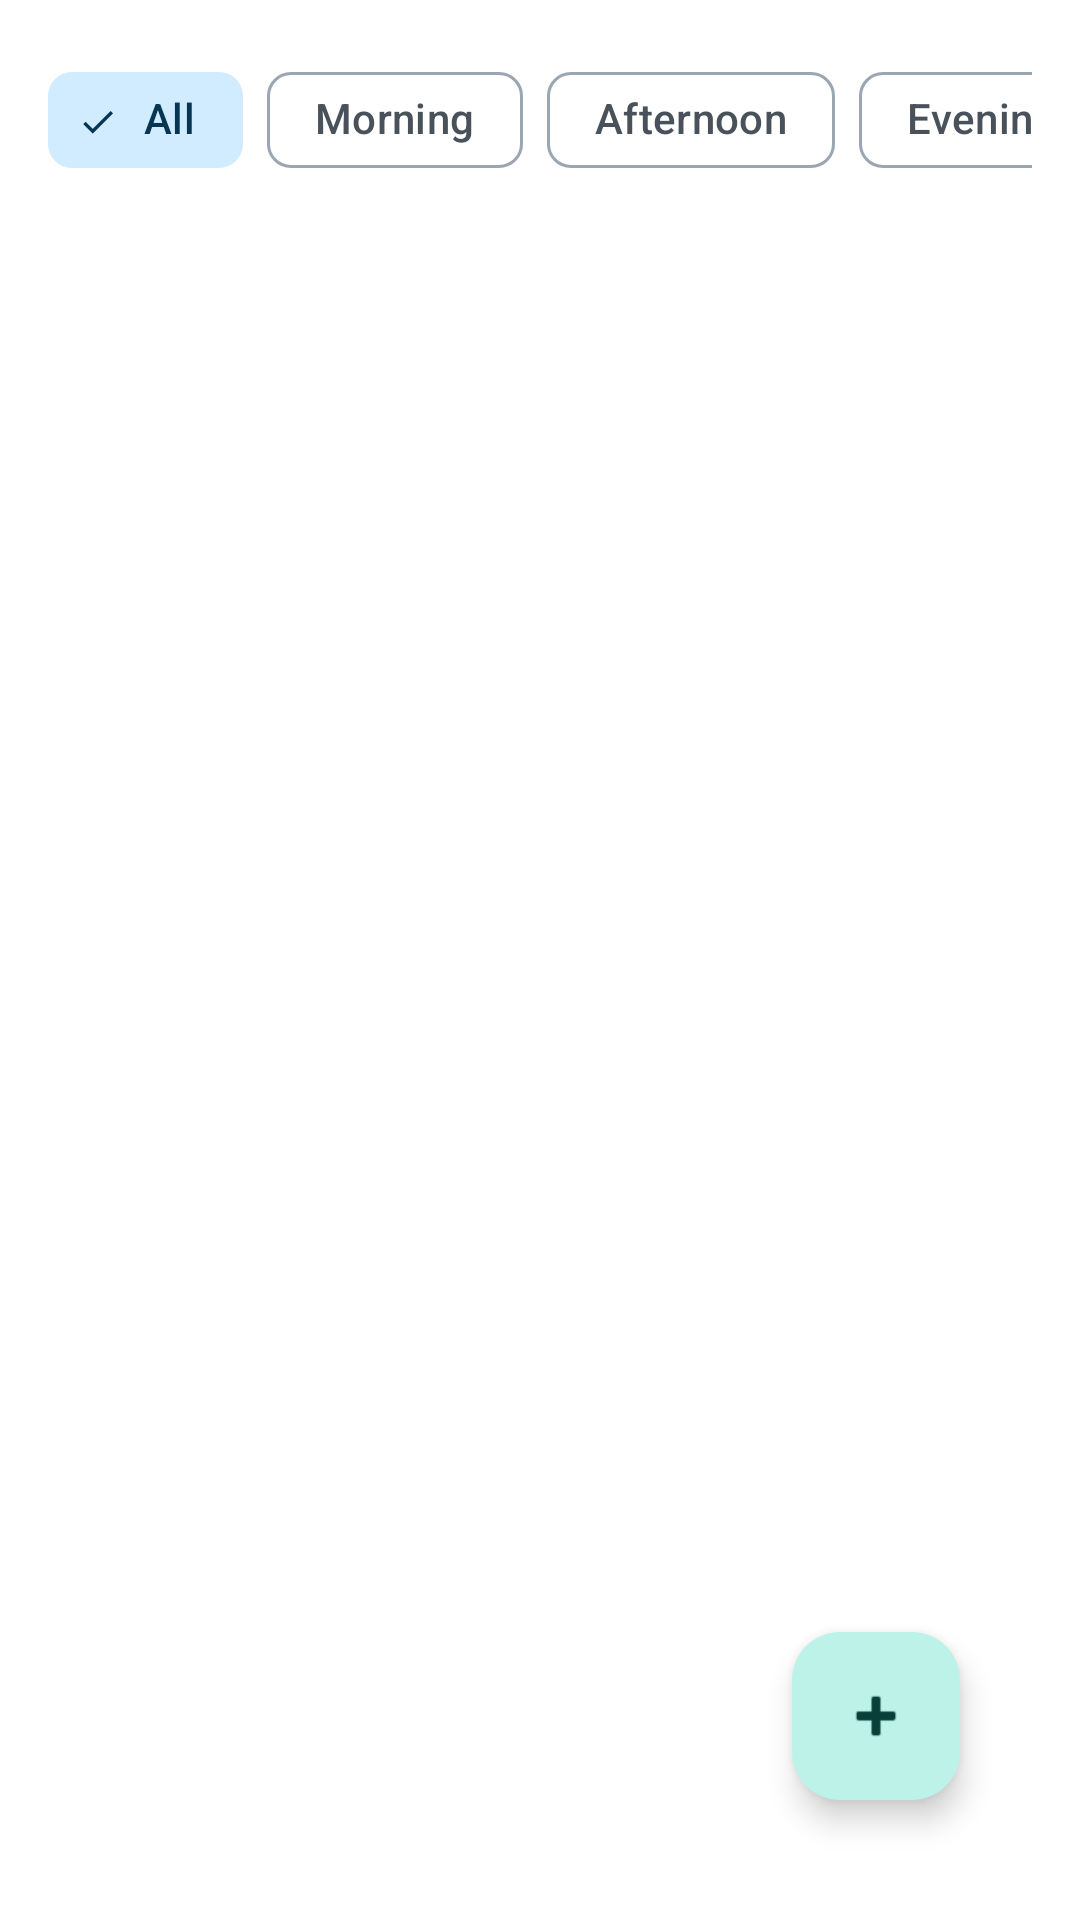

Named icons in this screenshot (1080x1920) and their centers, (x=x, y=y):
Add: (x=876, y=1716)
